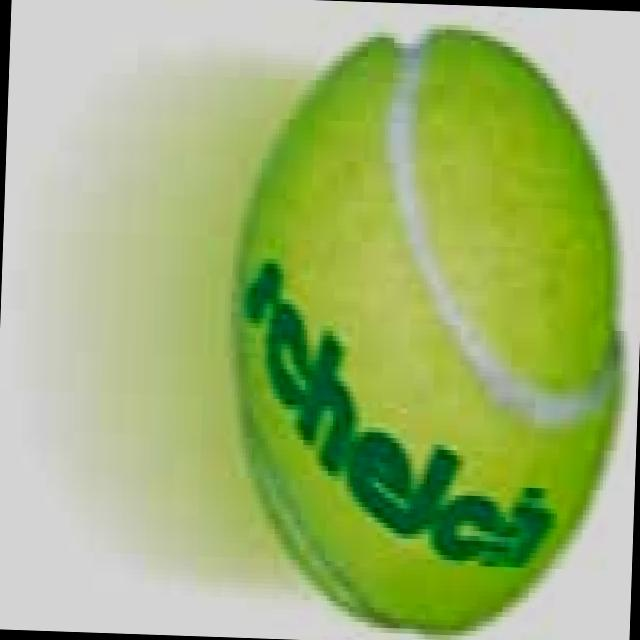Tennis Ball: (227, 24, 630, 640)
